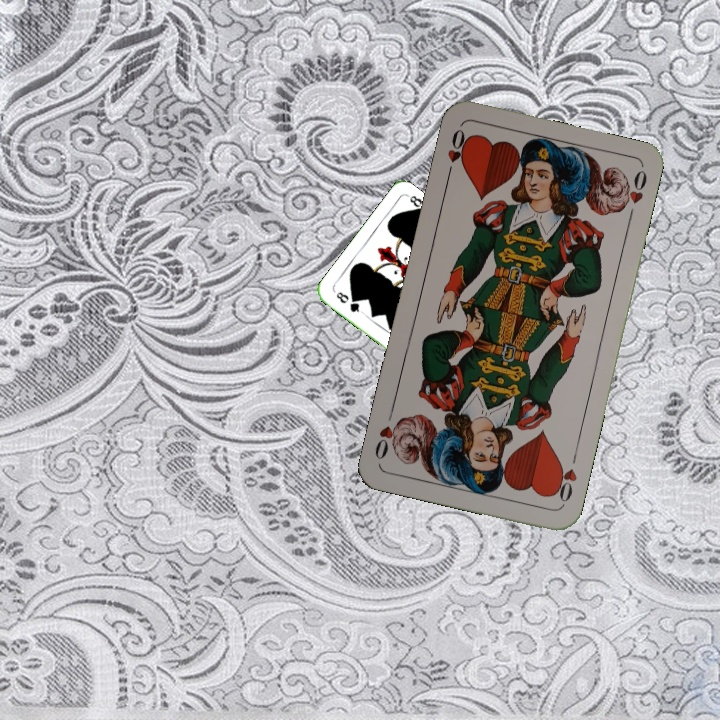G8: (332, 288, 366, 316)
HO: (549, 449, 580, 507), (442, 124, 471, 182)
